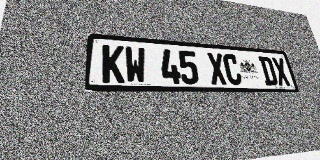4: (160, 49, 181, 84)
5: (178, 50, 200, 84)
C: (222, 53, 243, 85)
D: (258, 56, 279, 86)
K: (102, 44, 125, 83)
W: (125, 46, 147, 84)
X: (206, 52, 228, 85), (271, 57, 291, 86)
